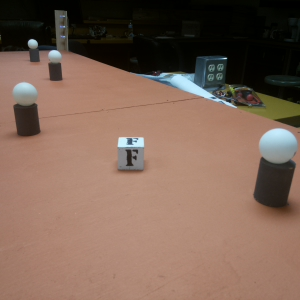obstacle: (252, 124, 295, 208), (13, 82, 41, 138), (46, 46, 64, 82), (26, 37, 41, 65)
